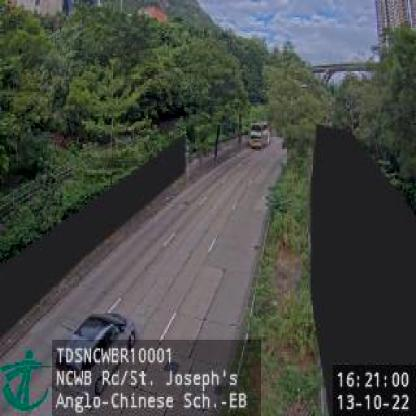Bus: (249, 121, 269, 150)
Car: (60, 311, 136, 398)
